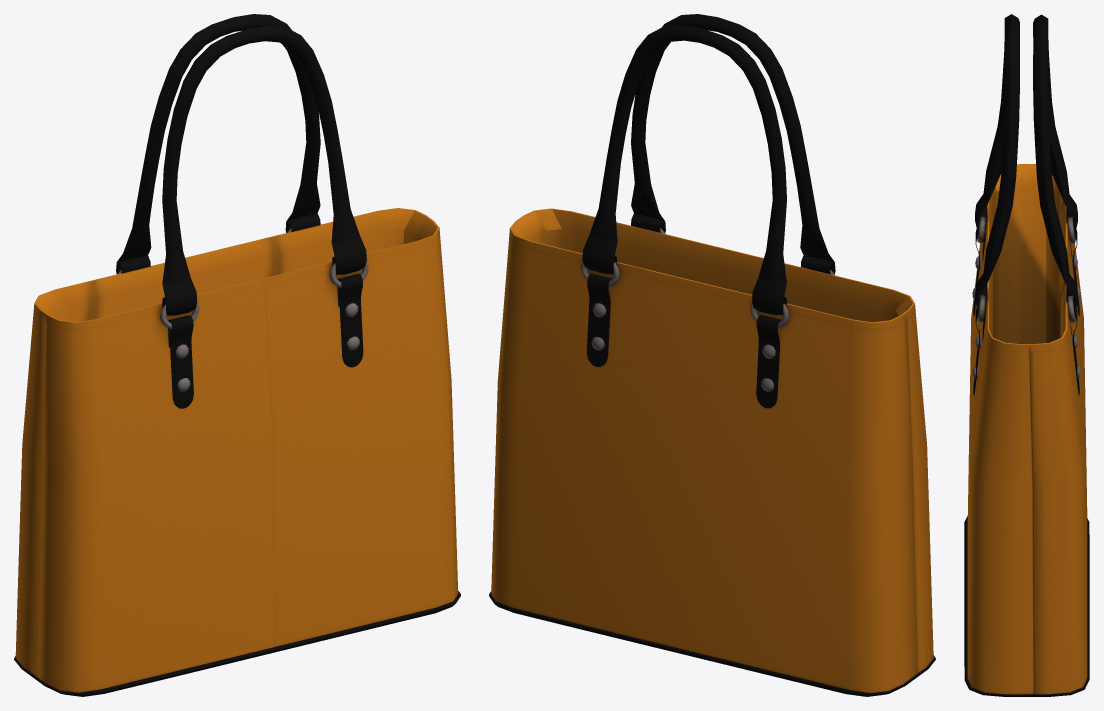
The model's file is bag.gltf.
The picture shows the model from 3 angles, left to right: view 1: azimuth 30°, elevation 25°; view 2: azimuth 150°, elevation 25°; view 3: azimuth 270°, elevation 25°; orthographic projection. The views are drawn at different scales.
Parts seen in each view (by area): view 1: LeatherBag; view 2: LeatherBag; view 3: LeatherBag.
Boxes of the visible parts, x1,y1,x2,y2 form: LeatherBag: (14,14,460,696); LeatherBag: (489,14,935,696); LeatherBag: (964,14,1089,696).
Size of the model in its own units: 43.25 by 61.57 by 11.98.
Materials: 1 (1 with a texture image).
